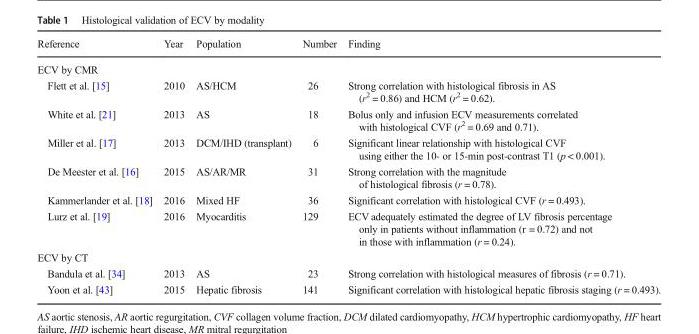table: (36, 37, 660, 294)
table column: (341, 37, 660, 294), (36, 37, 157, 294), (189, 37, 296, 294), (296, 37, 341, 294), (157, 37, 189, 294)
table column header: (36, 37, 660, 55)
table projected row header: (36, 55, 660, 76), (36, 248, 660, 264)
table row: (36, 207, 660, 248), (36, 76, 660, 105), (36, 105, 660, 134), (36, 162, 660, 191), (36, 134, 660, 162), (36, 55, 660, 76), (36, 37, 660, 55), (36, 191, 660, 207), (36, 248, 660, 264), (36, 264, 660, 280), (36, 280, 660, 294)
